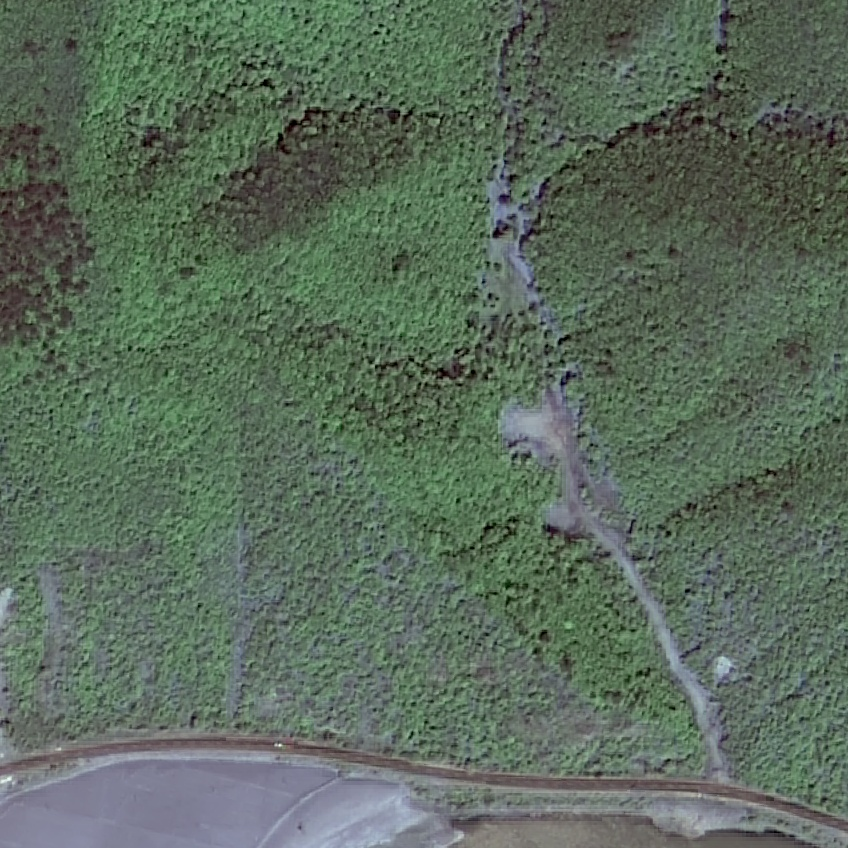slope: (496, 380, 628, 552)
